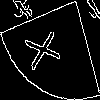X: (24, 25, 68, 72)
